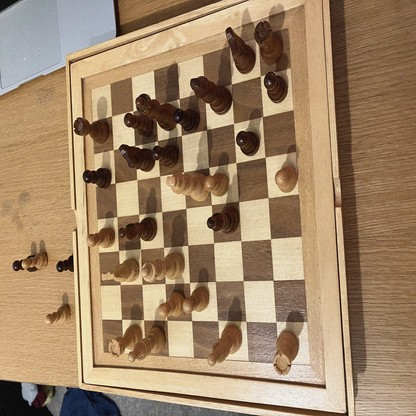bishop_black: (119, 217, 156, 241), (207, 207, 240, 232)
bishop_white: (207, 325, 241, 365), (128, 327, 165, 362)
king_black: (190, 77, 231, 115)
king_white: (167, 172, 210, 201)
knight_black: (225, 28, 256, 74), (119, 144, 155, 172)
knight_white: (101, 258, 138, 282)
pawn_black: (264, 73, 288, 104), (124, 112, 154, 136), (174, 109, 201, 132), (236, 131, 259, 156), (83, 169, 112, 188), (151, 146, 178, 165), (57, 254, 74, 272)
pawn_white: (182, 287, 209, 314), (159, 291, 185, 316), (87, 227, 114, 249), (274, 168, 298, 192), (204, 174, 229, 197), (44, 304, 71, 325), (22, 253, 48, 270)
queen_black: (135, 94, 178, 131)
queen_white: (141, 252, 184, 282)
rock_black: (255, 21, 283, 65), (74, 119, 109, 145)
rock_white: (273, 331, 299, 376), (108, 325, 142, 355)
